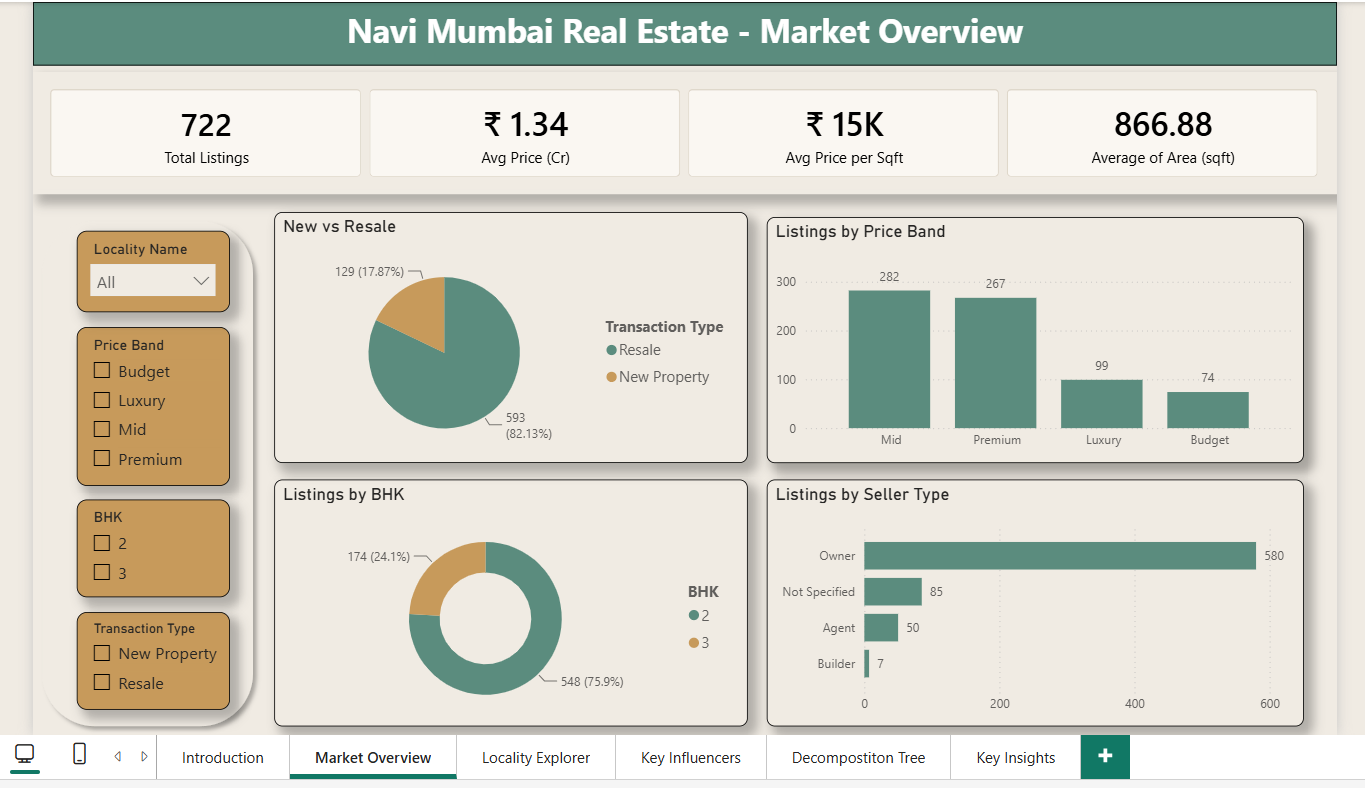

This screenshot's page, from the dashboard's own definition file:
{"tool":"powerbi","page":{"name":"Market Overview","canvas":[1280,720],"ordinal":1},"visuals":[{"type":"shape","box":[0,206.2,225,513.8],"z":0},{"type":"cardVisual","fields":{"Data":["_Measures.Total Listings","_Measures.Avg Price (Cr)","_Measures.Avg Price per Sqft","Avg(properties.Area (sqft))"]},"box":[0,68.8,1280,120],"z":1000},{"type":"donutChart","title":"Listings by BHK","fields":{"Category":["properties.BHK"],"Y":["CountNonNull(properties.BHK)"]},"box":[236.2,468.8,465,242.5],"z":2000},{"type":"columnChart","title":"Listings by Price Band","fields":{"Category":["properties.Price Band"],"Y":["CountNonNull(properties.Property_Id)"]},"box":[720,211.2,527.5,241.2],"z":3000},{"type":"pieChart","title":"New vs Resale","fields":{"Category":["properties.Transaction"],"Y":["CountNonNull(properties.Transaction)"]},"box":[236.2,206.2,465,246.2],"z":4000},{"type":"clusteredBarChart","title":"Listings by Seller Type","fields":{"Category":["properties.Posted by type"],"Y":["CountNonNull(properties.Posted by type)"]},"box":[720,468.8,527.5,242.5],"z":5000},{"type":"slicer","fields":{"Values":["properties.Price Band"]},"box":[42.5,318.8,150,156.2],"z":6000},{"type":"slicer","fields":{"Values":["localities.Locality Name"]},"box":[42.5,225,150,80],"z":7000},{"type":"textbox","box":[0,0,1280,62.5],"z":8000},{"type":"slicer","fields":{"Values":["properties.Transaction"]},"box":[42.5,599,150,96.2],"z":9000},{"type":"slicer","fields":{"Values":["properties.BHK"]},"box":[42.5,488.8,150,96.2],"z":10000}]}

Visuals, with their boxes in screenshot pixels (x1, y1, x2, y2):
shape: 32, 209, 260, 730
cardVisual - _Measures.Total Listings x _Measures.Avg Price (Cr): 32, 70, 1330, 192
"Listings by BHK" donutChart: 272, 476, 743, 722
"Listings by Price Band" columnChart: 762, 214, 1297, 459
"New vs Resale" pieChart: 272, 209, 743, 459
"Listings by Seller Type" clusteredBarChart: 762, 476, 1297, 722
slicer - properties.Price Band: 75, 323, 227, 482
slicer - localities.Locality Name: 75, 228, 227, 309
textbox: 32, 0, 1330, 63
slicer - properties.Transaction: 75, 608, 227, 705
slicer - properties.BHK: 75, 496, 227, 593
